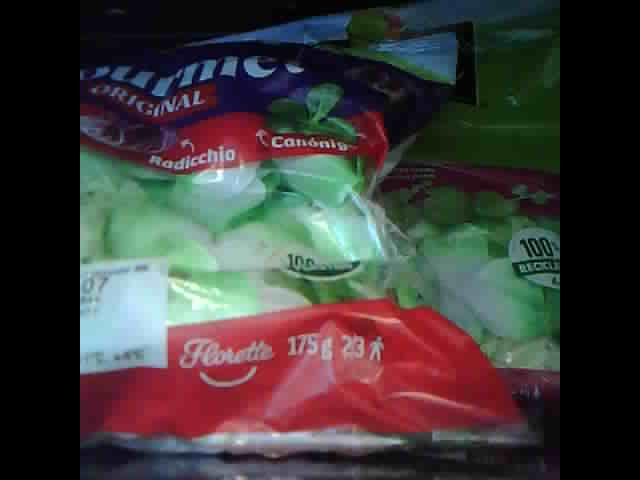florette: (80, 25, 550, 458), (317, 2, 559, 414)
